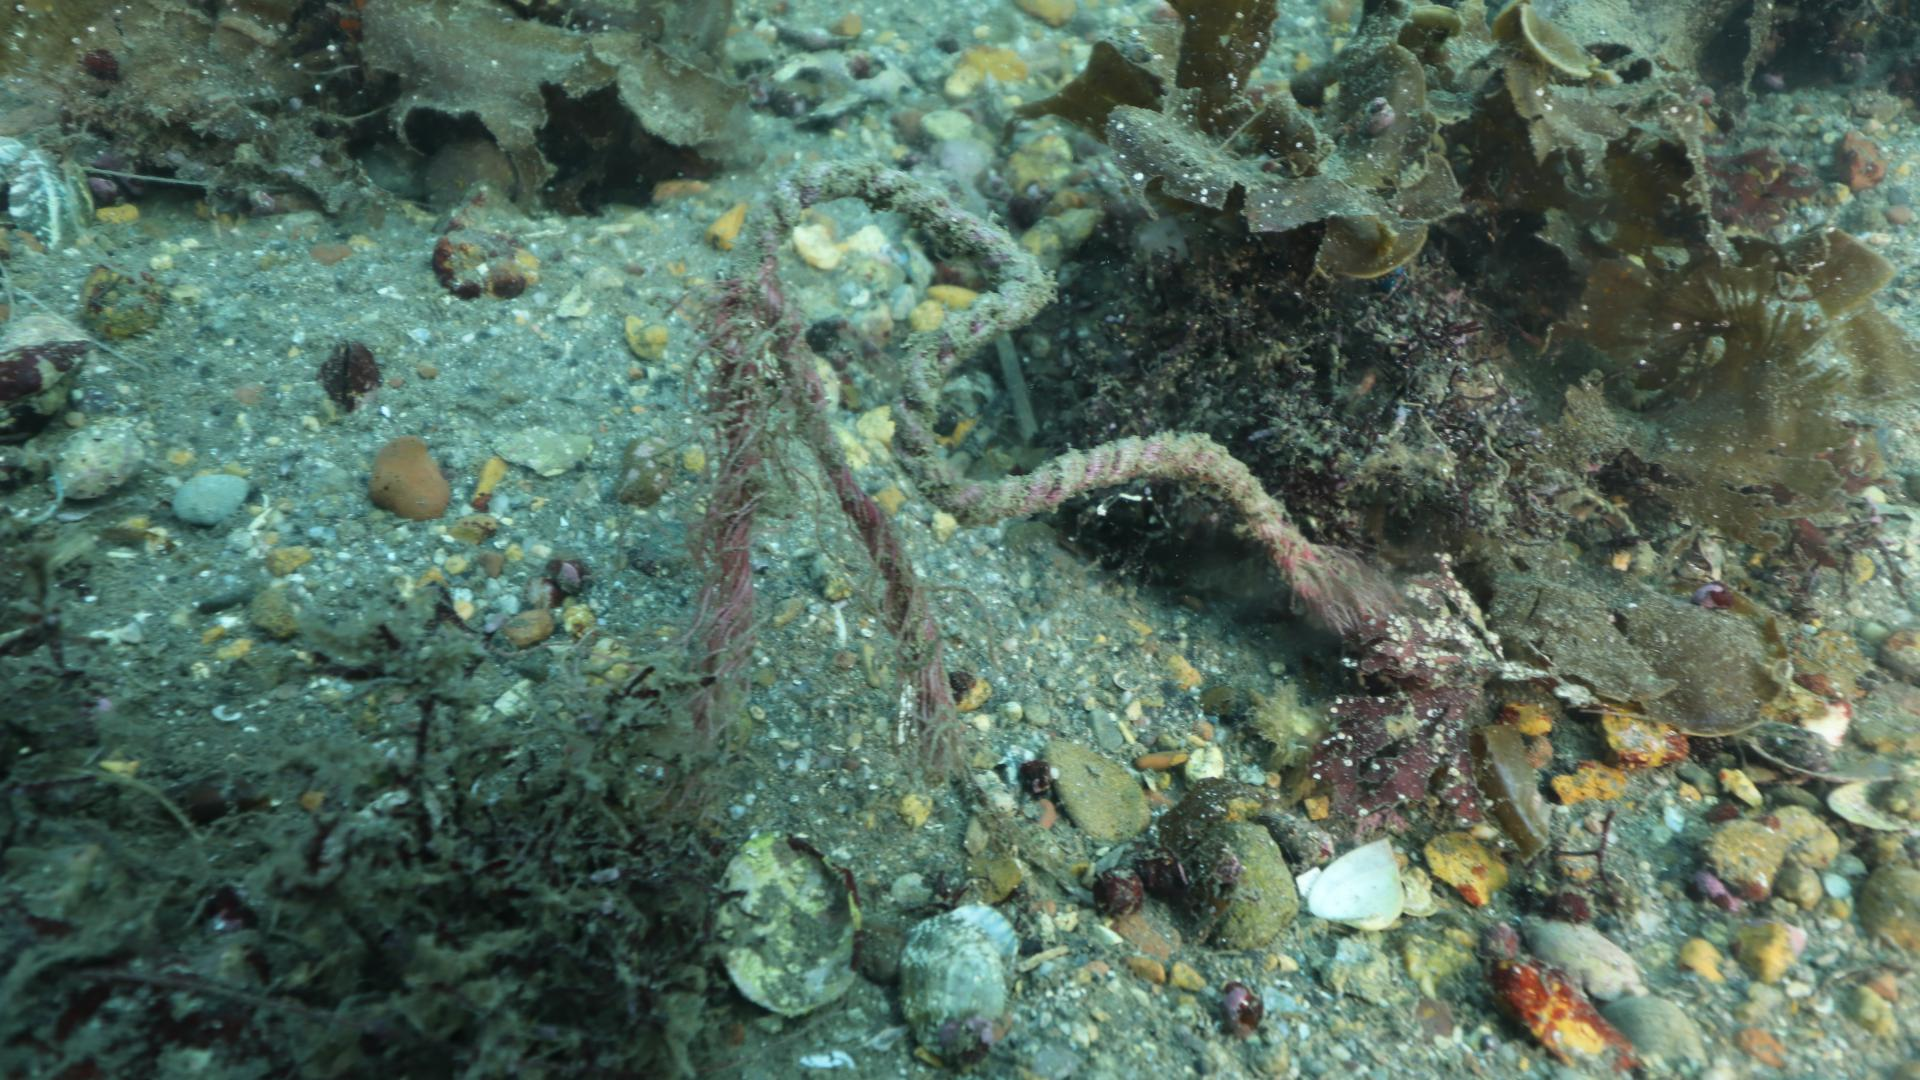rope: (744, 156, 1288, 547)
